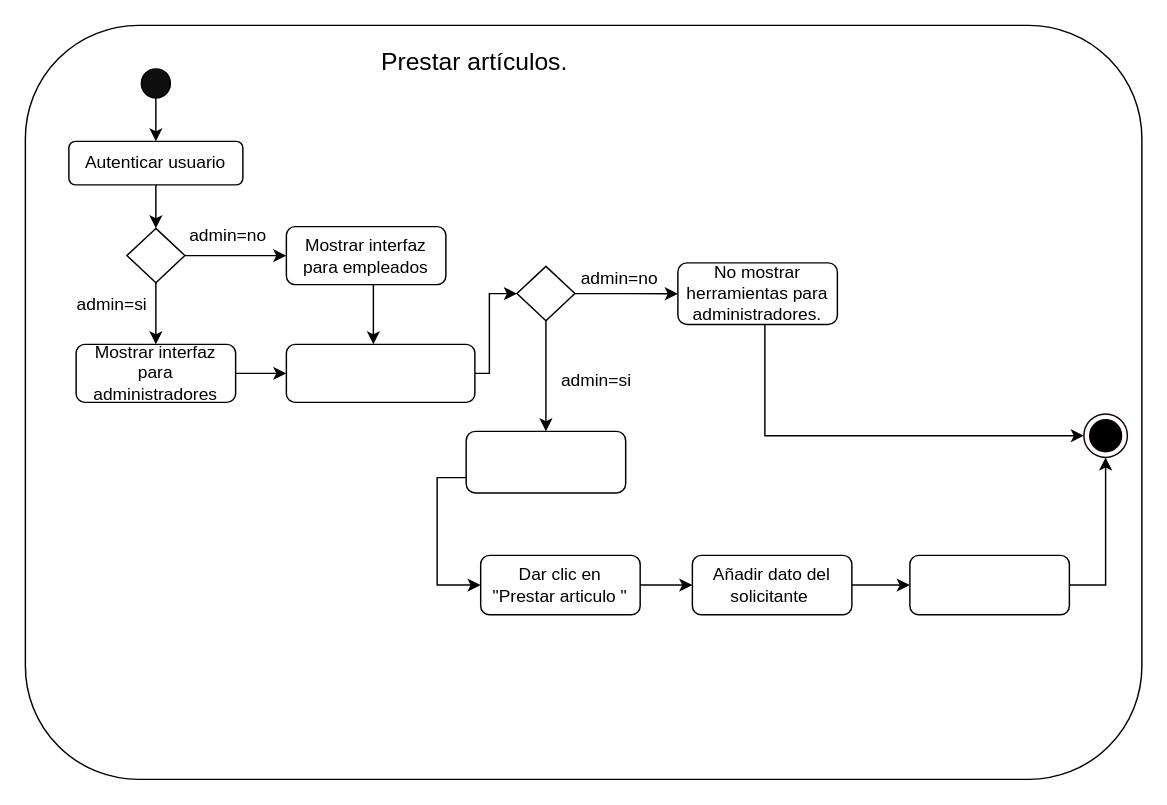
The diagram is 1167 pixels wide and 805 high, and some of its shapes have lost their labels. The shapes that lost their labels are listed below. From the top down, each one's centre as x and y in pixels, then its label:
At pixel 380 372: "Colocarse en el apartado de prestamos.".
At pixel 545 461: "Mostrar herramientas para administradores".
At pixel 988 584: "Imprimir comprobante".
